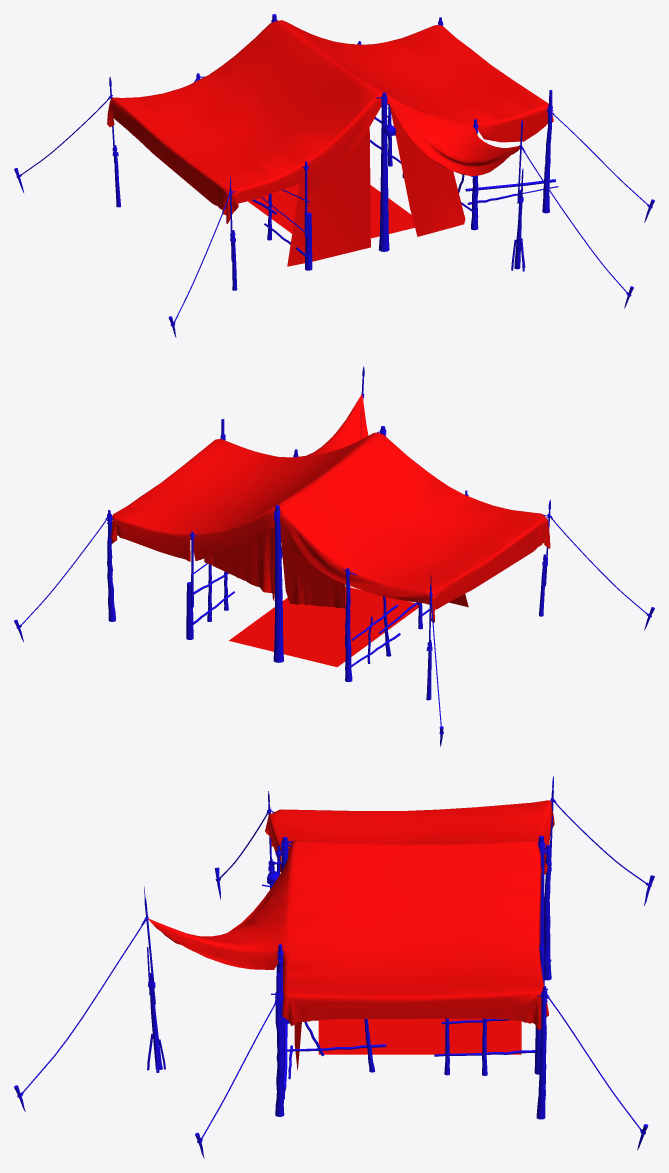
The picture shows the model from 3 angles, top to bottom: view 1: azimuth 30°, elevation 25°; view 2: azimuth 150°, elevation 25°; view 3: azimuth 270°, elevation 25°; orthographic projection. The views are drawn at different scales.
Parts seen in each view (by area): view 1: Object382, Object381; view 2: Object382, Object381; view 3: Object382, Object381.
Boxes of the visible parts, bbox=[...] form: Object382: bbox=[107, 20, 553, 266]; Object381: bbox=[14, 14, 654, 337]; Object382: bbox=[111, 395, 550, 667]; Object381: bbox=[14, 366, 654, 746]; Object382: bbox=[148, 800, 554, 1070]; Object381: bbox=[14, 776, 654, 1158].
Bounding box in the file's own units: 112 × 37.57 × 110.
